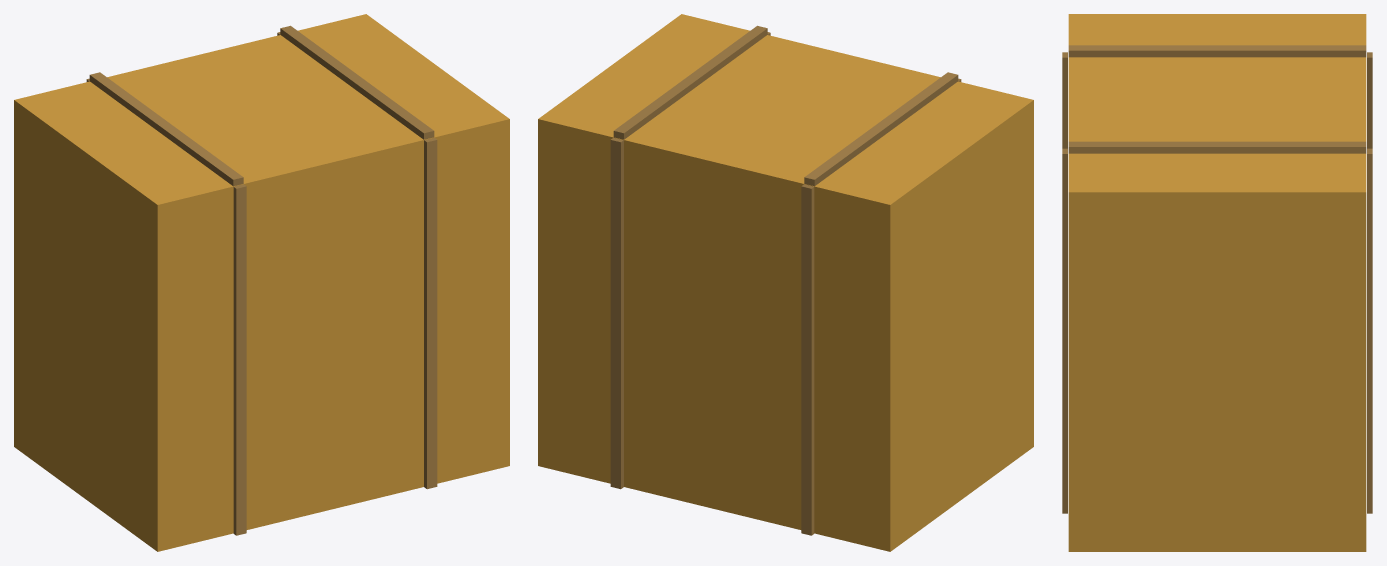
File: A_HayBale_Mobile.fbx
3 views of the same model, side by side, from view 1: azimuth 30°, elevation 25°; view 2: azimuth 150°, elevation 25°; view 3: azimuth 270°, elevation 25° (orthographic). The views are drawn at different scales.
Visible parts, largest first — view 1: A_HayBale_Mobile.025; view 2: A_HayBale_Mobile.025; view 3: A_HayBale_Mobile.025.
Part boxes in pixels (x1,y1,x2,y2): A_HayBale_Mobile.025: (14,14,509,551); A_HayBale_Mobile.025: (538,14,1033,551); A_HayBale_Mobile.025: (1062,14,1372,551).
Bounding box in the file's own units: 0.85 × 0.8155 × 0.626.
